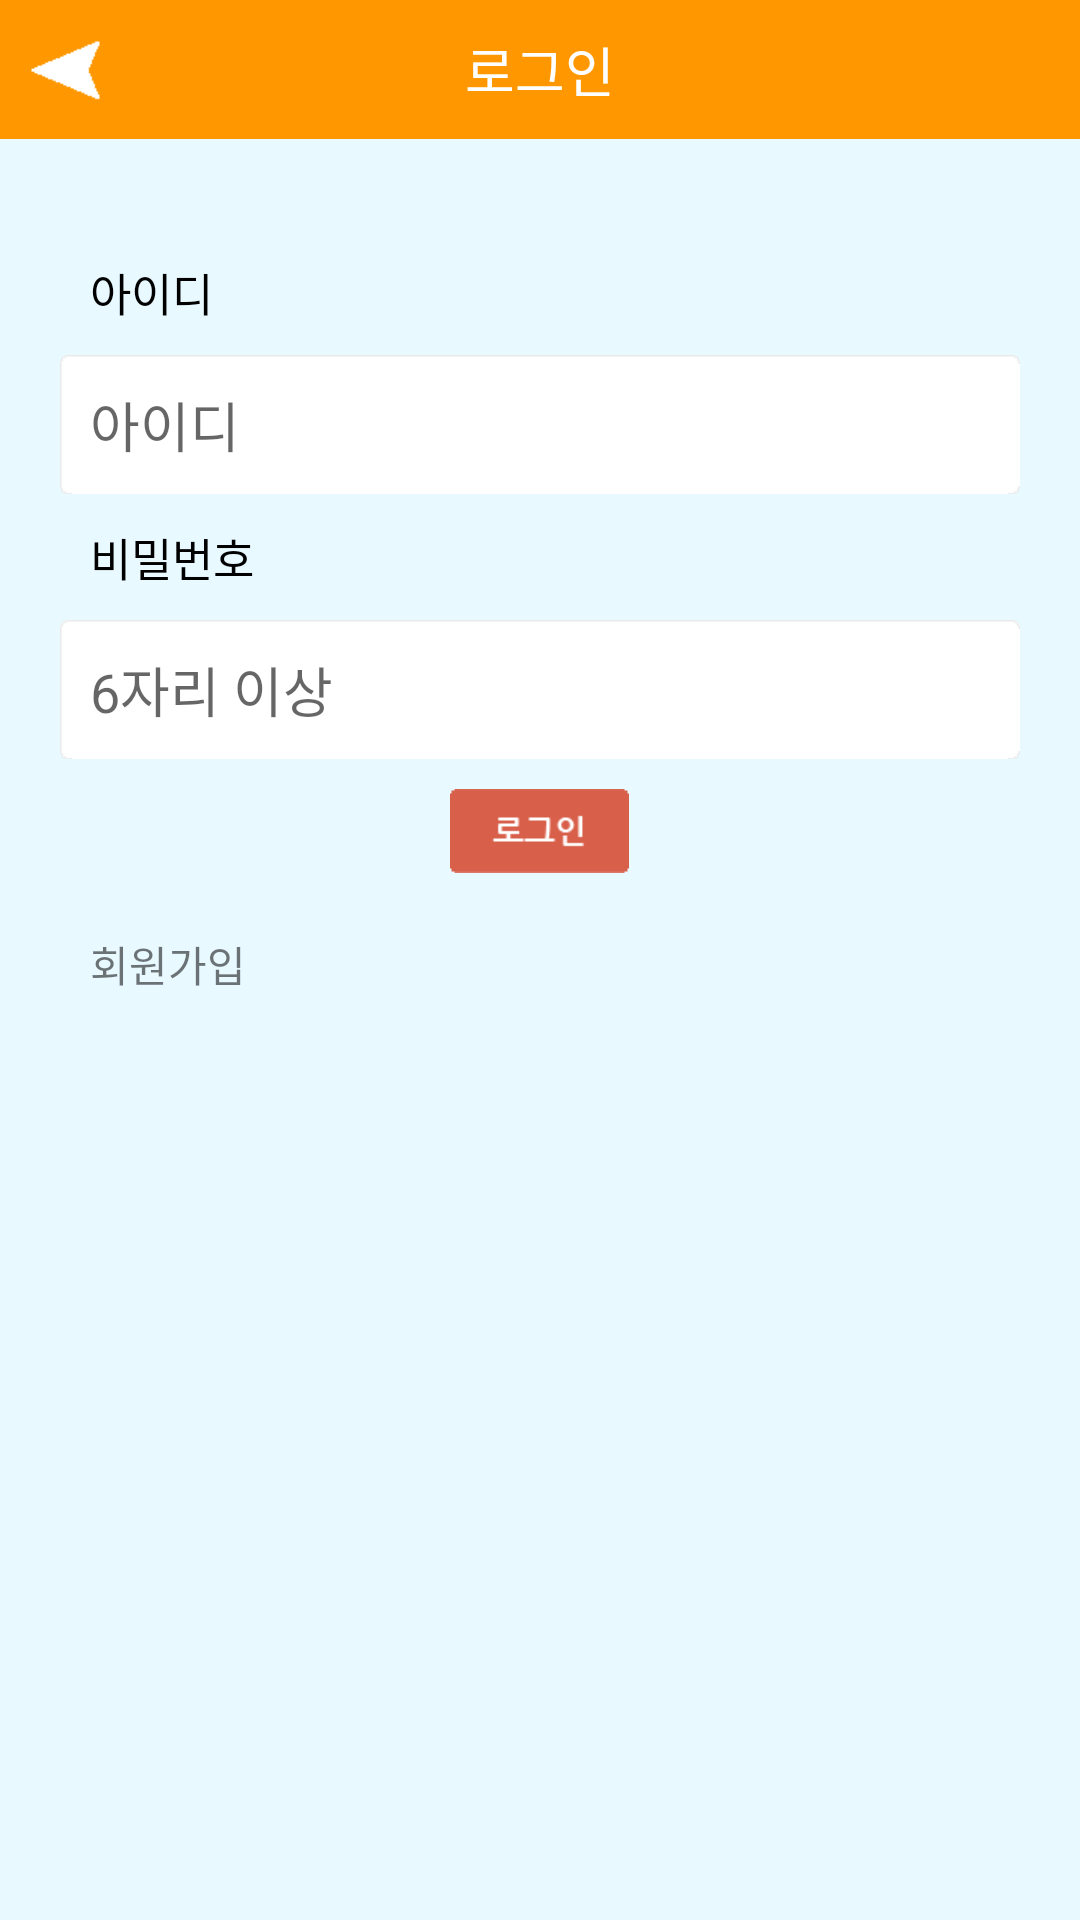

Screen size 1080w x 1920h. Icon name, then its box in pixels as (x1, y1, x2, y2):
back: (31, 41, 100, 100)
